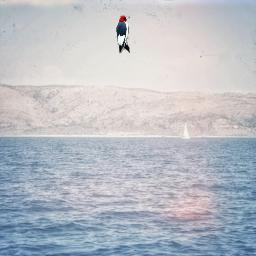Woodpecker: (116, 14, 130, 54)
